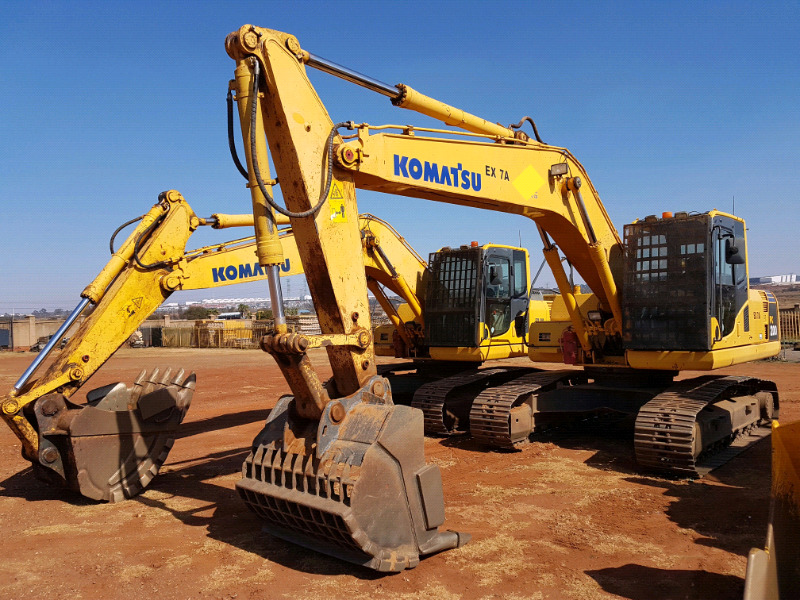backhoe: (241, 22, 784, 570), (11, 191, 574, 498)
